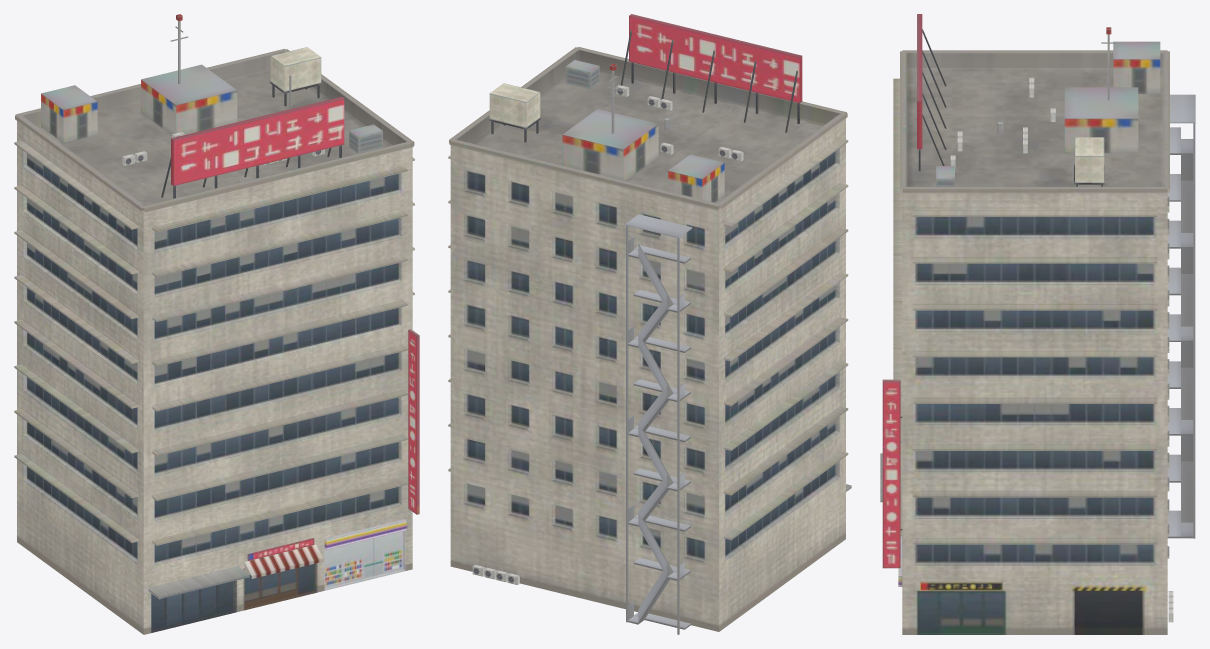
The model's file is tokyo_midrise_a.glb.
3 renders of one model, left to right at view 1: azimuth 30°, elevation 25°; view 2: azimuth 150°, elevation 25°; view 3: azimuth 270°, elevation 25°, orthographic. The views are drawn at different scales.
Parts seen in each view (by area): view 1: tokyo_midrise_a; view 2: tokyo_midrise_a; view 3: tokyo_midrise_a.
Boxes of the visible parts, x1,y1,x2,y2 form: tokyo_midrise_a: (14, 14, 419, 634); tokyo_midrise_a: (448, 14, 851, 634); tokyo_midrise_a: (880, 14, 1195, 634).
Bounding box in the file's own units: 23.2 × 40.25 × 21.4.
1 material, 1 textured.
